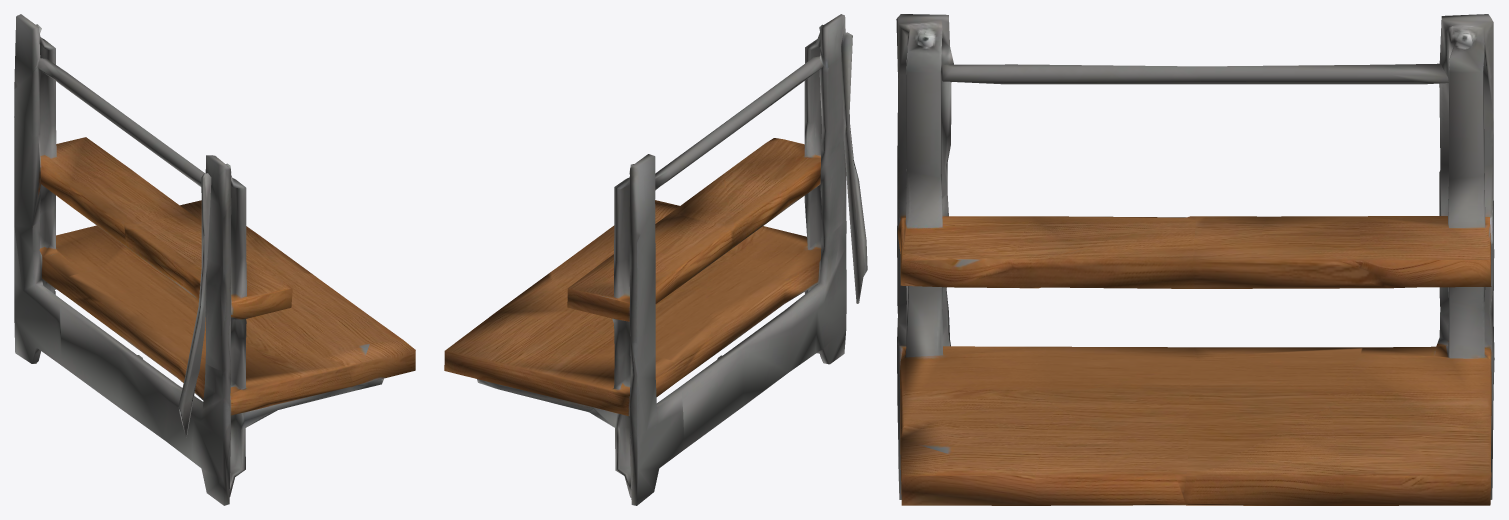
The model's file is wall-shelf.glb.
The picture shows the model from 3 angles, left to right: view 1: azimuth 30°, elevation 25°; view 2: azimuth 150°, elevation 25°; view 3: azimuth 270°, elevation 25°; orthographic projection. The views are drawn at different scales.
Parts seen in each view (by area): view 1: tripo_node_99f67ae2-326b-4db2-b49f-14472ae446d7; view 2: tripo_node_99f67ae2-326b-4db2-b49f-14472ae446d7; view 3: tripo_node_99f67ae2-326b-4db2-b49f-14472ae446d7.
Boxes of the visible parts, bbox=[...] form: tripo_node_99f67ae2-326b-4db2-b49f-14472ae446d7: bbox=[14, 14, 415, 505]; tripo_node_99f67ae2-326b-4db2-b49f-14472ae446d7: bbox=[444, 14, 867, 505]; tripo_node_99f67ae2-326b-4db2-b49f-14472ae446d7: bbox=[896, 14, 1494, 505].
Size of the model in its own units: 0.6253 by 0.8892 by 0.999.
Materials: 1 (1 with a texture image).
